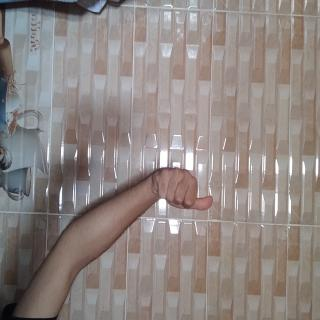ALIF: (119, 140, 162, 227)
